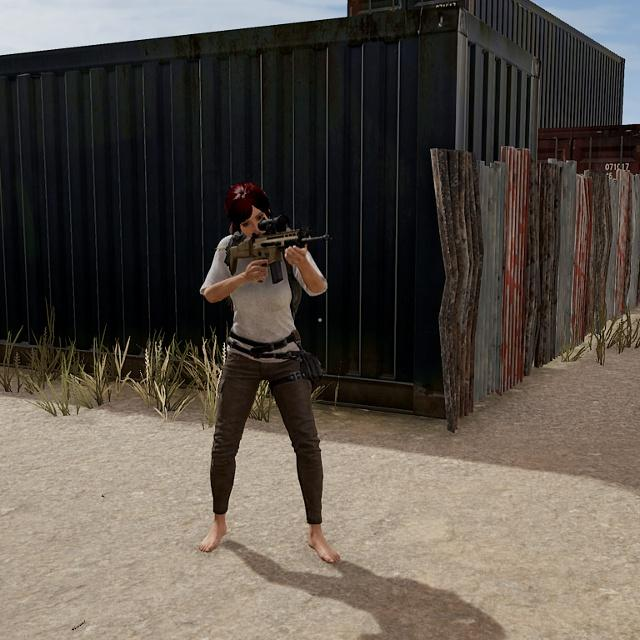head: (221, 179, 275, 244)
people: (194, 173, 342, 568)
